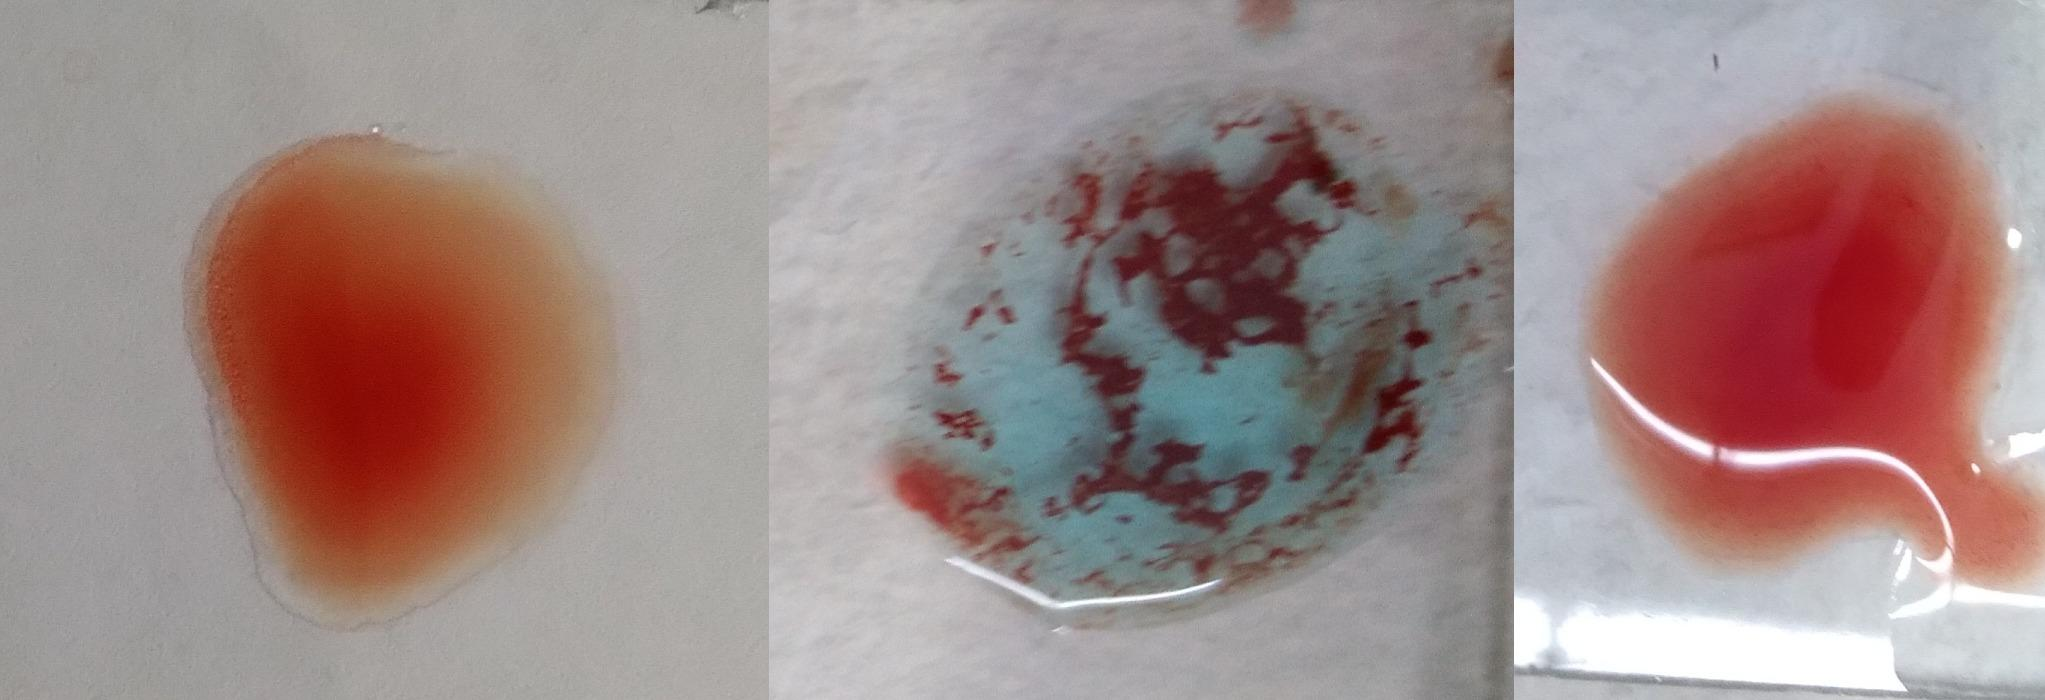A: (858, 51, 1450, 639)
